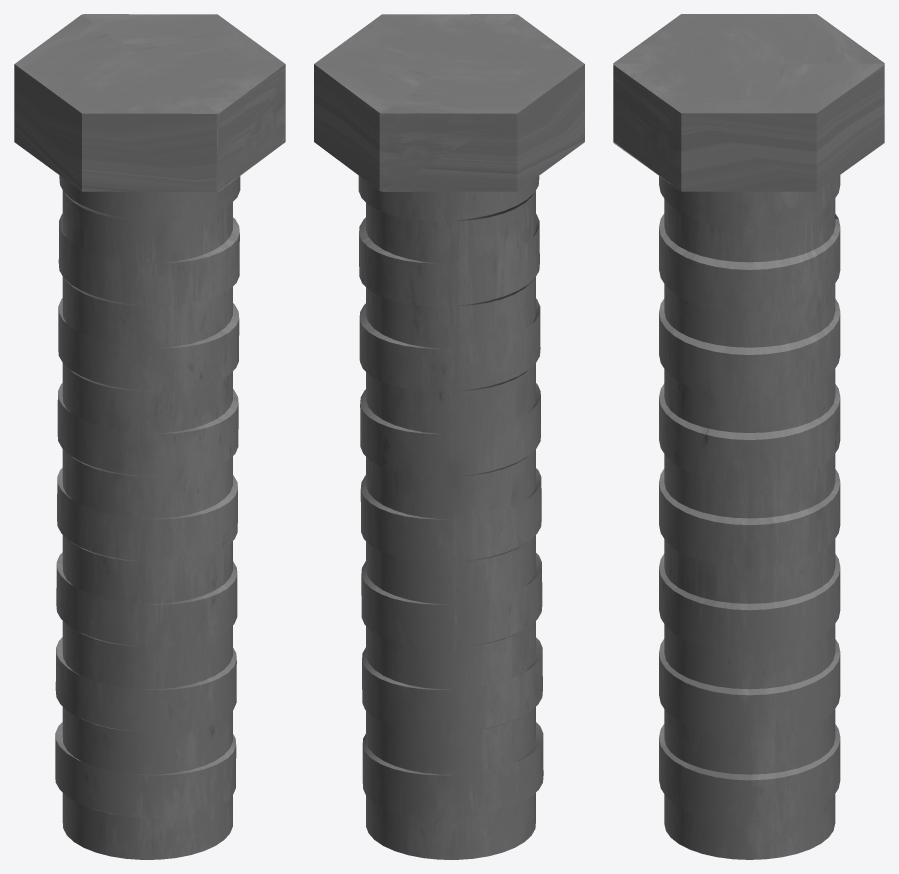
Rendered from Screwbolt.fbx.
3 renders of one model, left to right at view 1: azimuth 30°, elevation 25°; view 2: azimuth 150°, elevation 25°; view 3: azimuth 270°, elevation 25°, orthographic.
Visible parts, largest first — view 1: Screw Bolt; view 2: Screw Bolt; view 3: Screw Bolt.
Boxes of the visible parts, x1,y1,x2,y2 form: Screw Bolt: (14,14,285,859); Screw Bolt: (314,14,584,859); Screw Bolt: (613,14,884,859).
Size of the model in its own units: 1.3 by 4.66 by 1.5.
Materials: 1 (1 with a texture image).
